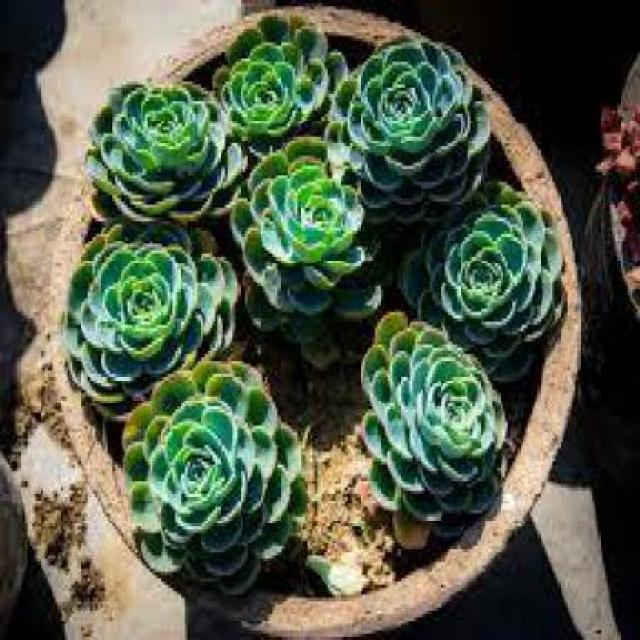flower: (122, 352, 309, 597), (340, 308, 515, 530), (61, 196, 242, 392), (395, 164, 568, 350), (311, 35, 486, 198), (228, 120, 380, 306), (85, 70, 240, 213), (208, 8, 329, 135)
